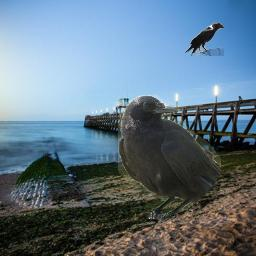Crow: (118, 95, 221, 219), (183, 21, 224, 56)
